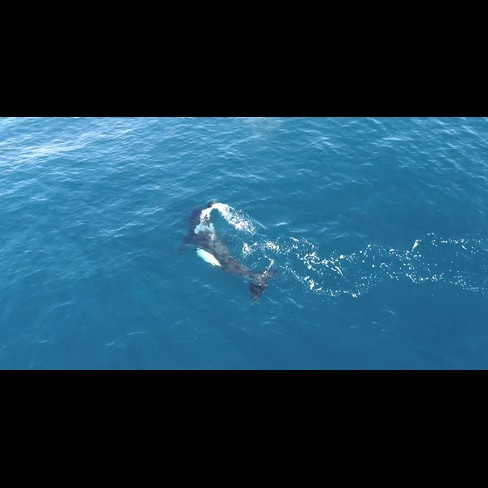orca: (172, 197, 293, 308)
